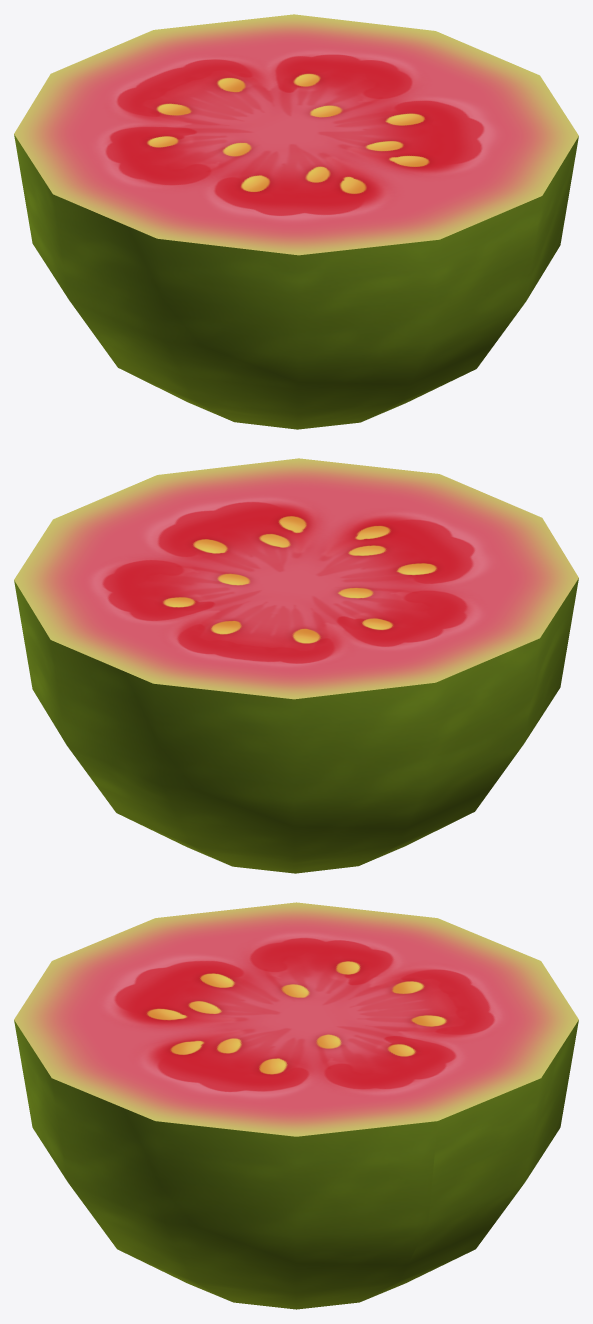
The model's file is Guava_Half_02.fbx.
3 views of the same model, one above another, from view 1: azimuth 30°, elevation 25°; view 2: azimuth 150°, elevation 25°; view 3: azimuth 270°, elevation 25° (orthographic).
Visible parts, largest first — view 1: Guava_Half_02; view 2: Guava_Half_02; view 3: Guava_Half_02.
Boxes of the visible parts, <box> form: Guava_Half_02: <box>14,14,578,429</box>; Guava_Half_02: <box>14,458,578,873</box>; Guava_Half_02: <box>14,902,578,1309</box>.
Bounding box in the file's own units: 27.29 × 14 × 27.8.
1 material, 1 textured.
